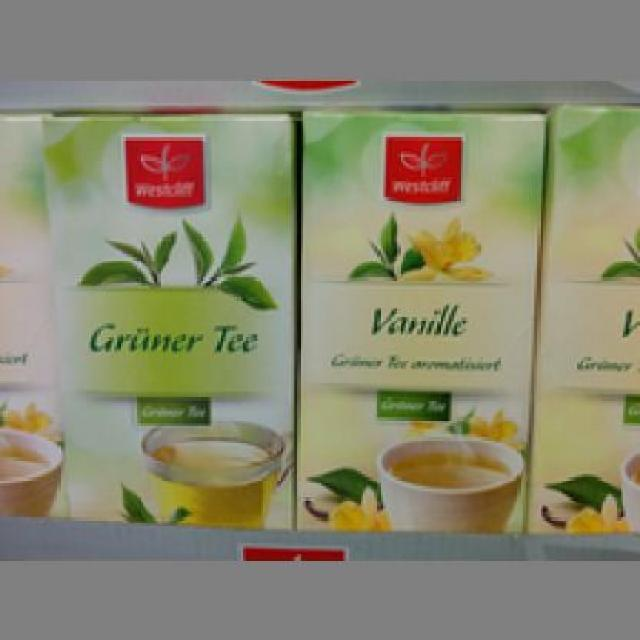Tea: (39, 106, 295, 528), (294, 106, 543, 532)
